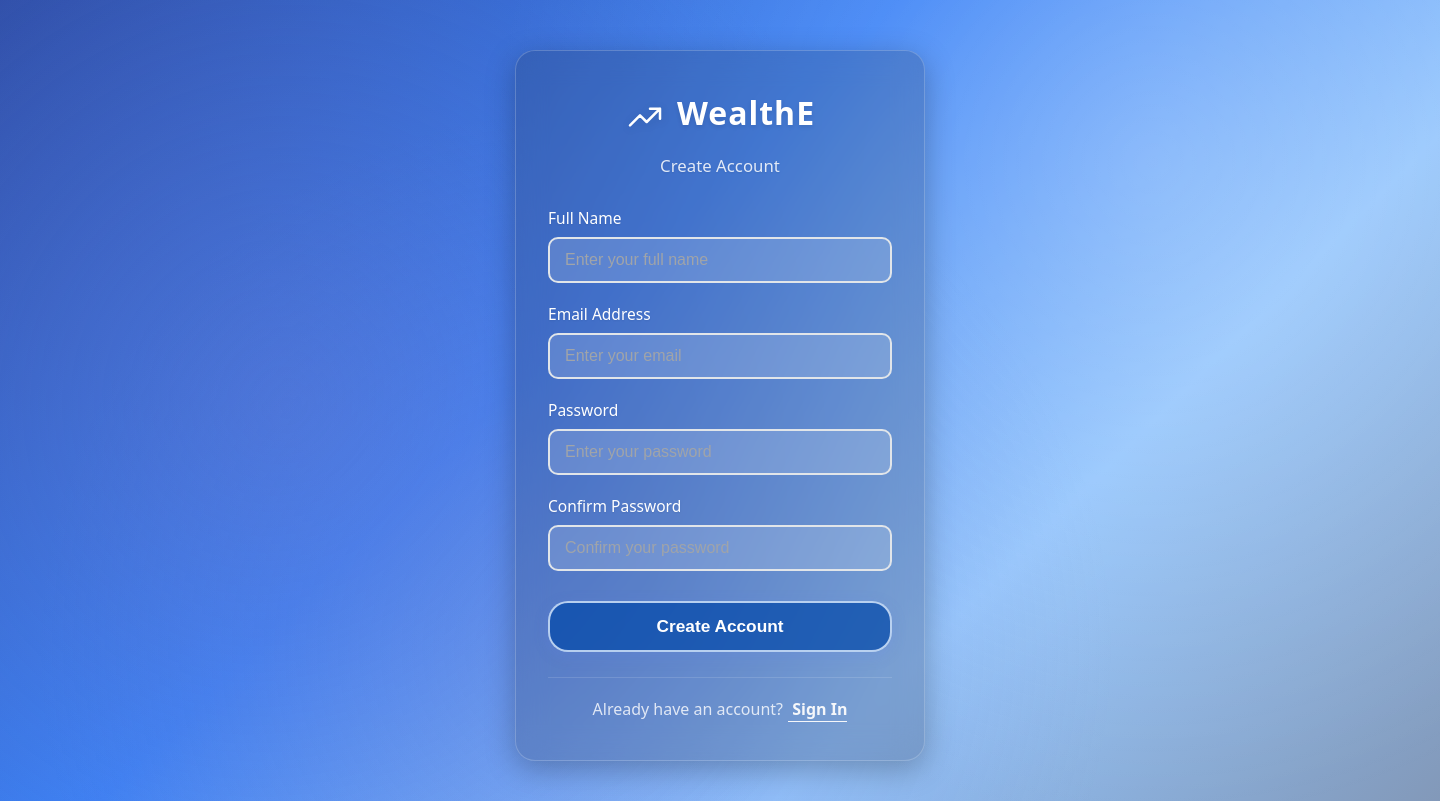
Register Component › clears errors when user starts typing
First trigger validation error
Click the button "Create Account" at (720, 626), box [548,600,892,652]
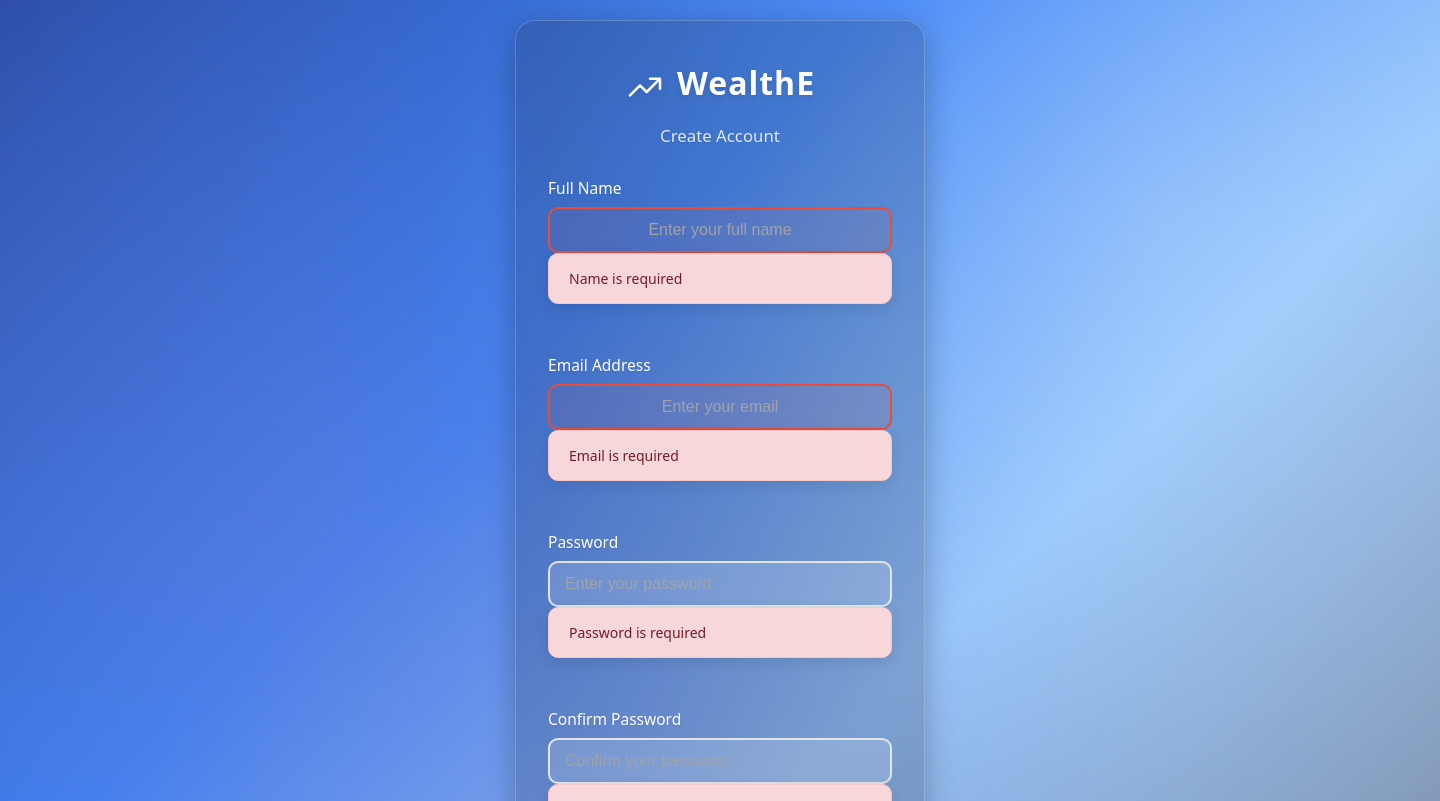
Expected: the text "Name is required" is shown, [548,253,892,304]
Then start typing to clear error
Type "John Doe" into the field labelled "Full Name" at (720, 230), box [548,207,892,253]
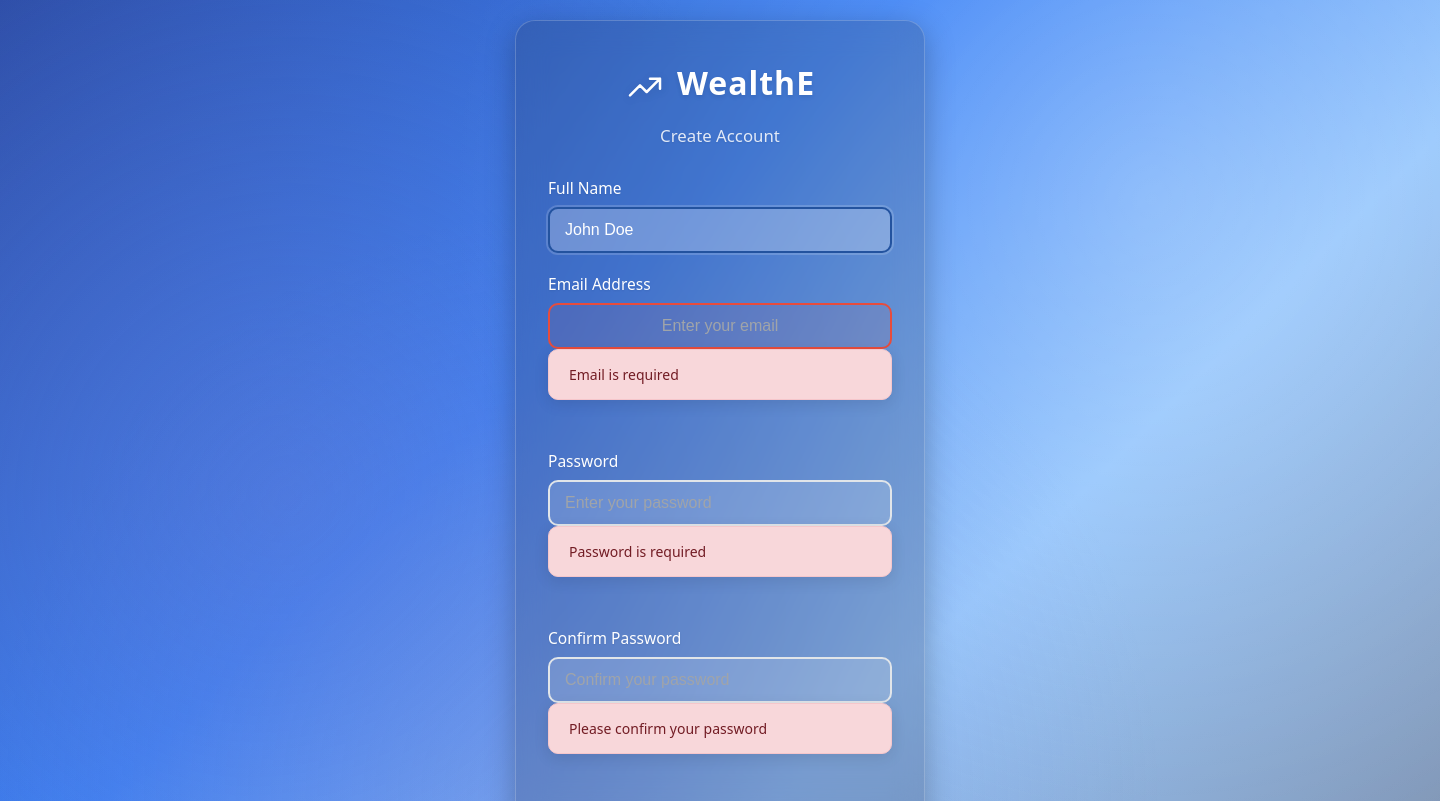
Expected: the text "Name is required" is gone
